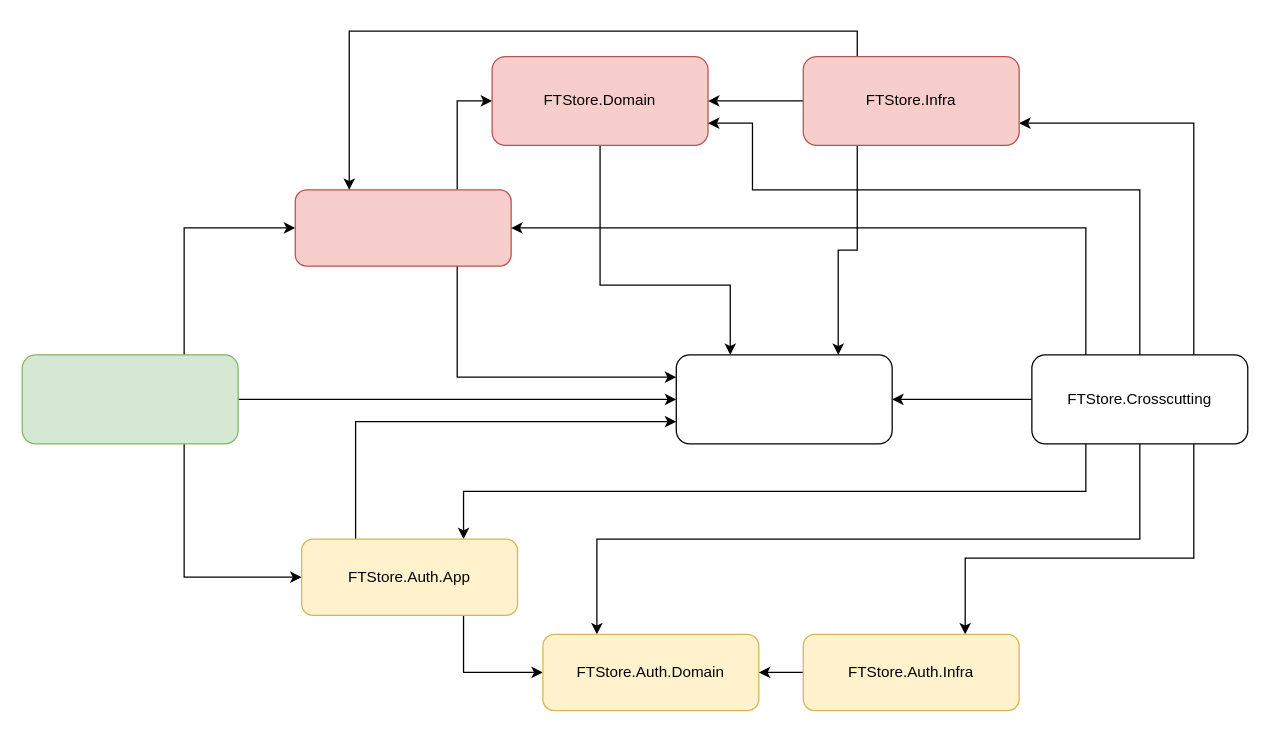
Image size: 1270x733. Some labels were removed from this diagram. Here are the shapes that lost their labels. From the top down, the centre of each, then its label:
pixel 402 227: FTStore.App
pixel 129 399: FTStore.WebAPI
pixel 783 399: FTStore.Lib.Common
